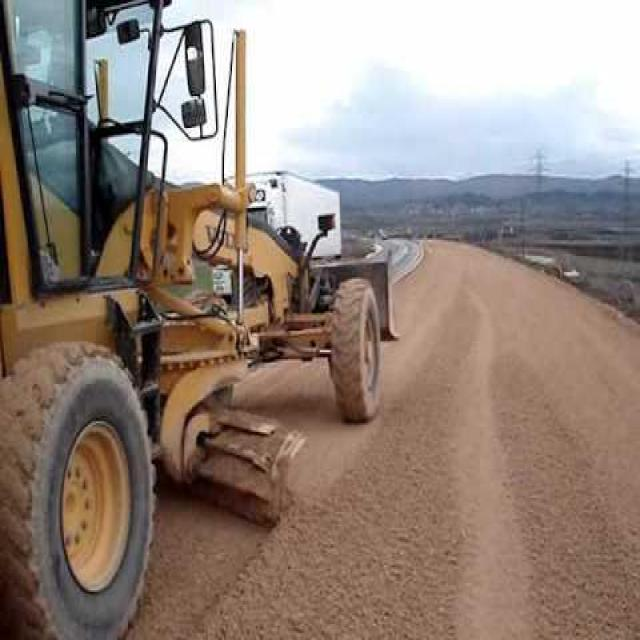buldozerpayloadergrader: (4, 6, 416, 638)
